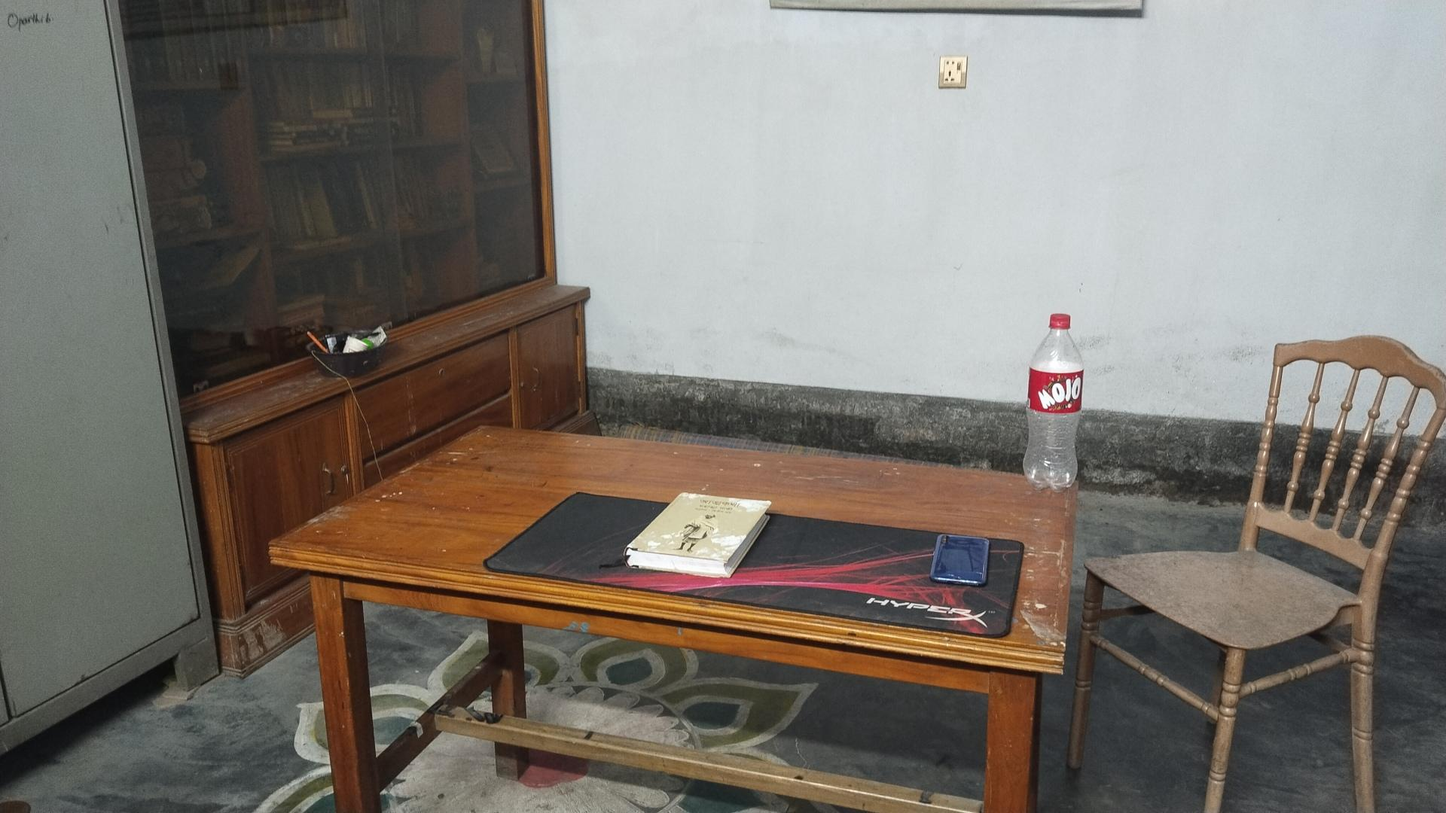Book: (635, 486, 771, 579)
Bottle: (1026, 310, 1082, 491)
Chair: (1086, 313, 1446, 813)
Phone: (930, 527, 993, 588)
Table: (268, 425, 1079, 813)
